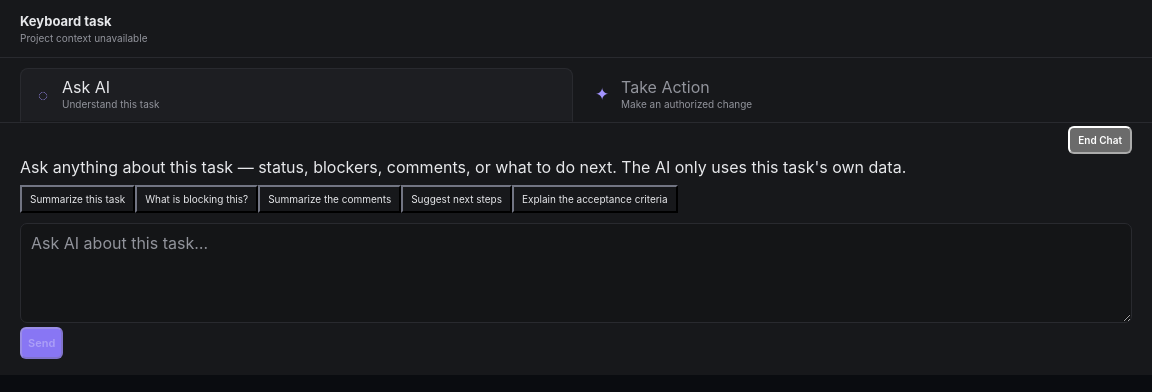
it: TaskAgentWorkspace › Ask AI sends on Enter, supports Shift+Enter, and retries failed requests
Type "What is the status?" into the text box with placeholder "Ask AI about this task…" at [576, 273], box x1=20 y1=223 x2=1132 y2=323
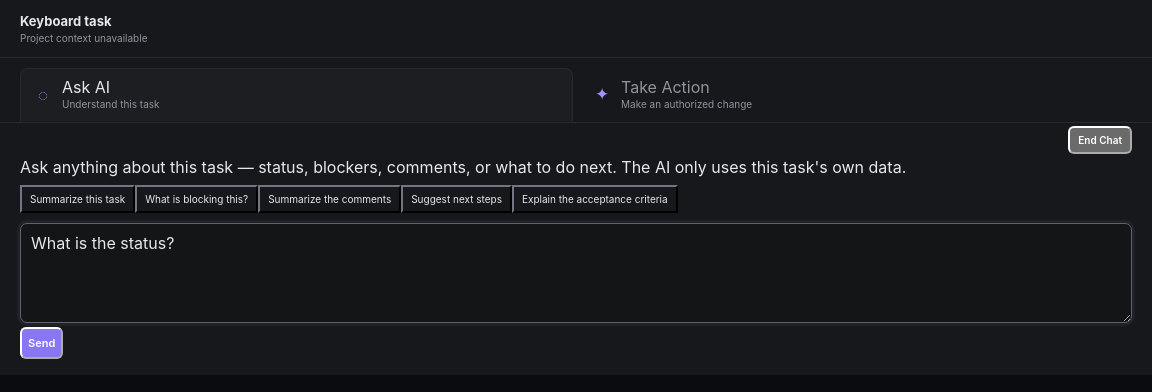
Type keys "{Shift>}{Enter}{/Shift}"
Press Enter
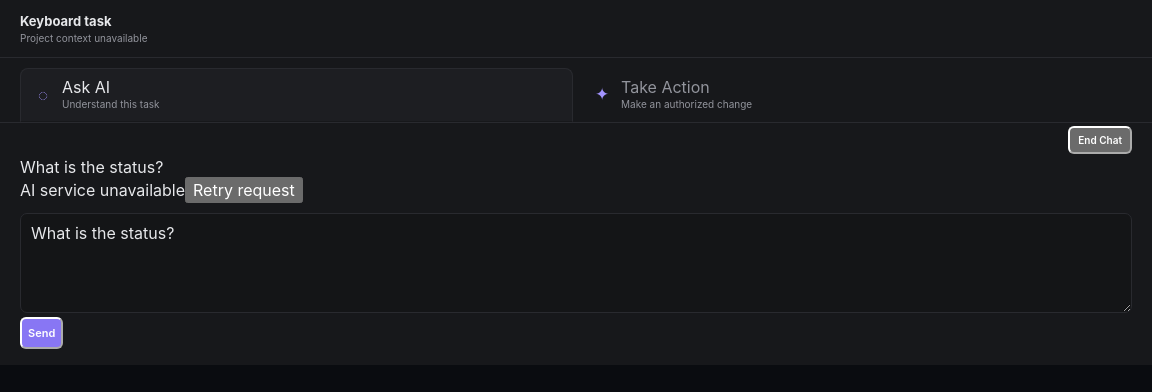
Result: the message shows "AI service unavailable" at x1=20 y1=180 x2=185 y2=200
Click the button "Retry request" at [244, 190], box x1=185 y1=177 x2=303 y2=203
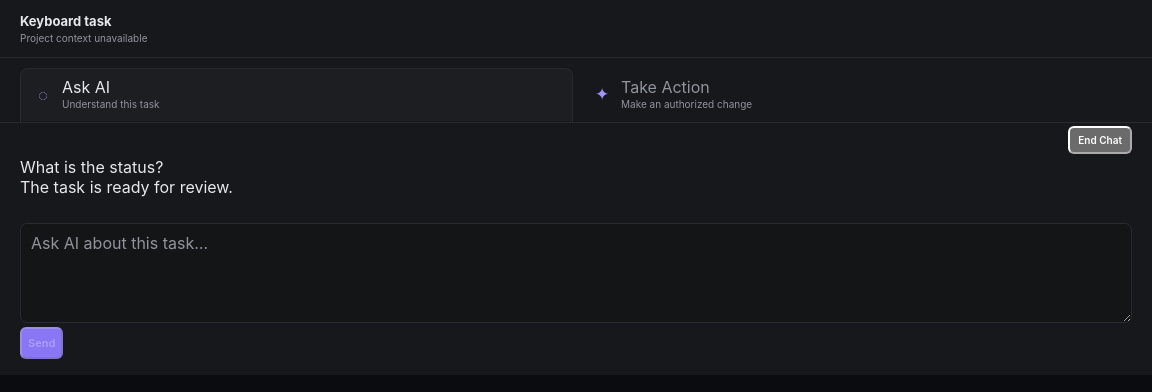
Result: the text "The task is ready for review." is shown at x1=20 y1=177 x2=233 y2=197
